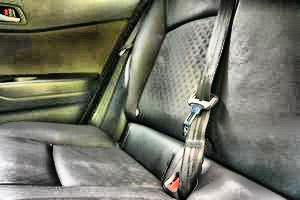seatbelt: (163, 1, 237, 200), (91, 8, 149, 130)
